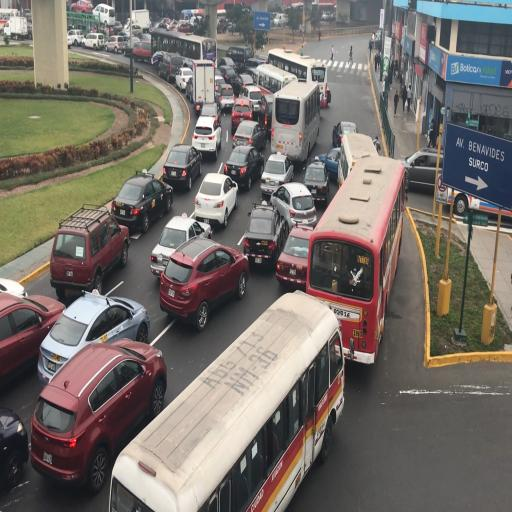auto: (31, 335, 164, 494), (39, 286, 150, 382), (157, 236, 249, 326), (49, 201, 129, 296), (1, 290, 66, 394), (150, 214, 210, 278), (112, 171, 172, 234), (242, 200, 285, 270), (276, 221, 318, 289), (193, 171, 238, 229), (0, 407, 29, 496), (397, 146, 445, 198), (270, 181, 317, 233), (162, 143, 202, 192), (224, 143, 264, 191), (260, 151, 294, 199), (192, 107, 222, 157), (302, 158, 330, 204), (231, 120, 266, 154), (230, 96, 256, 132), (157, 50, 184, 82), (258, 89, 275, 135), (213, 76, 234, 110), (332, 120, 357, 148), (0, 276, 27, 299), (216, 63, 238, 89), (131, 38, 154, 62), (118, 34, 142, 56), (226, 74, 246, 98), (175, 66, 193, 92), (103, 35, 126, 53), (81, 32, 104, 50), (242, 64, 262, 84), (245, 56, 267, 74), (66, 29, 84, 47), (235, 73, 255, 89), (71, 0, 94, 13), (185, 76, 196, 103), (151, 50, 166, 67), (108, 20, 124, 35), (153, 18, 170, 30), (176, 22, 190, 34), (217, 18, 228, 32), (164, 20, 179, 30), (228, 20, 238, 33), (123, 18, 132, 30), (321, 11, 330, 21), (67, 20, 74, 32), (67, 34, 72, 48)
bus: (186, 57, 217, 113), (128, 8, 151, 34)
moto: (112, 294, 334, 507), (307, 152, 401, 359), (270, 78, 320, 164), (267, 47, 329, 109), (338, 131, 379, 191), (154, 28, 212, 69), (254, 62, 294, 98), (226, 44, 253, 70), (2, 15, 28, 40), (92, 3, 115, 26), (272, 13, 288, 27), (190, 8, 205, 22), (0, 8, 18, 19), (216, 8, 227, 23)
